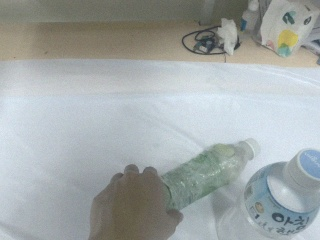bottle: (242, 146, 320, 239), (160, 140, 260, 212)
